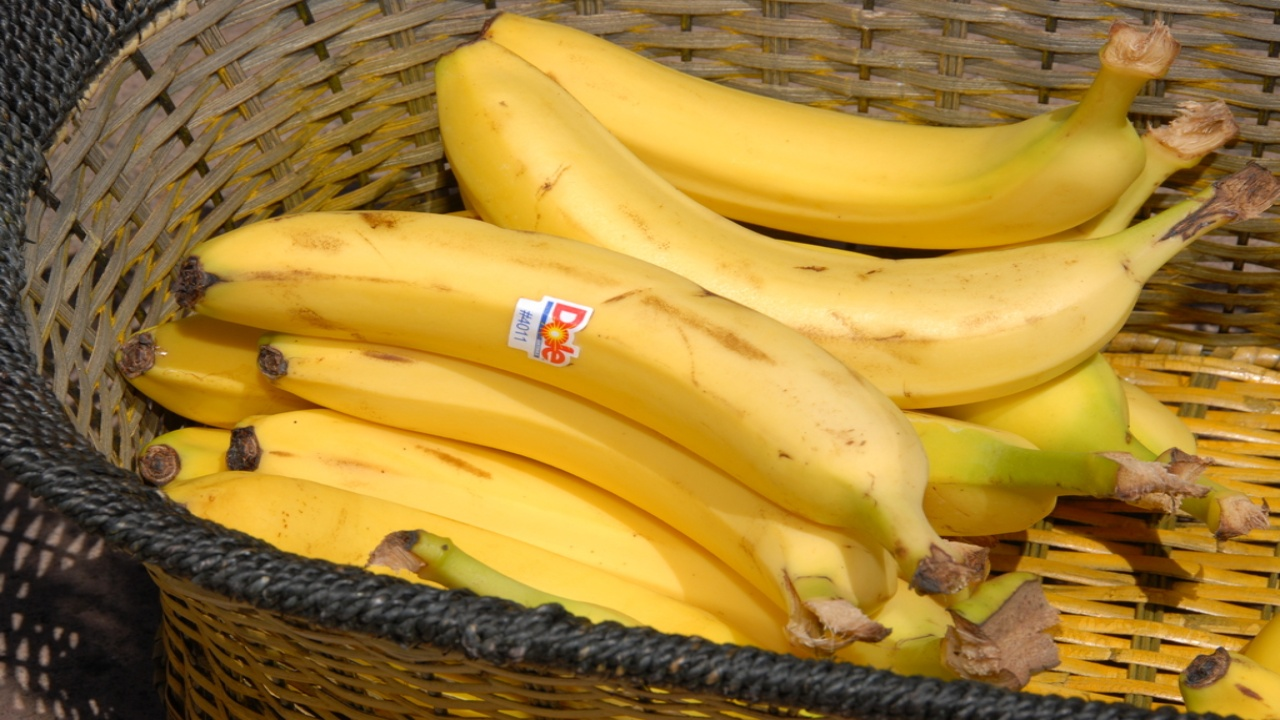banana: (134, 198, 995, 632), (435, 2, 1256, 334)
